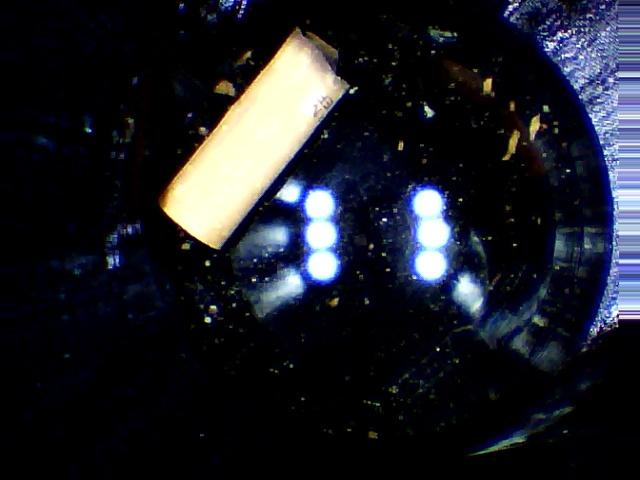megot: (150, 24, 373, 252)
